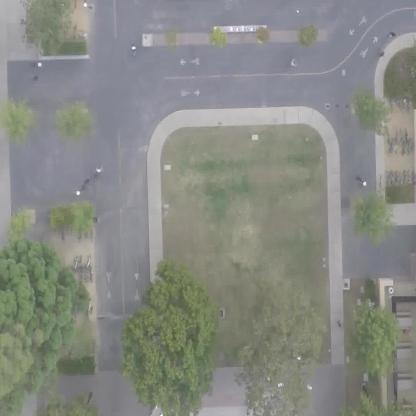Bicyclist: (280, 50, 295, 70), (78, 178, 93, 198), (384, 25, 398, 44), (126, 42, 138, 62), (24, 73, 39, 89), (374, 44, 388, 60), (90, 165, 104, 181)
Pedestrian: (332, 313, 346, 334)
